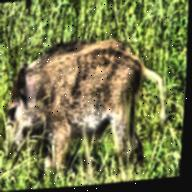boar: (0, 21, 168, 183)
